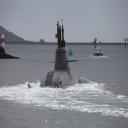submarine: (27, 18, 87, 94)
